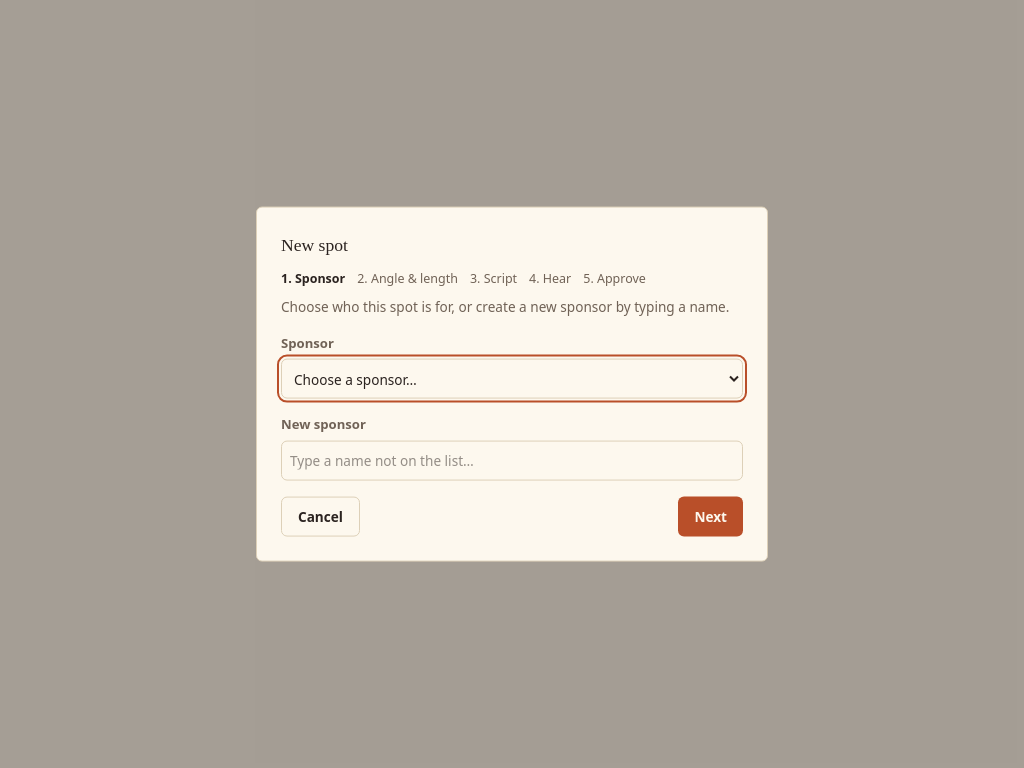
Test: Feature: New spot is a five-step wizard › Scenario: the Sponsor step refuses to advance with nothing chosen › clears the refusal once a sponsor is chosen and the wizard moves on
Click the button "Next" at (711, 516), box [678, 496, 743, 536]
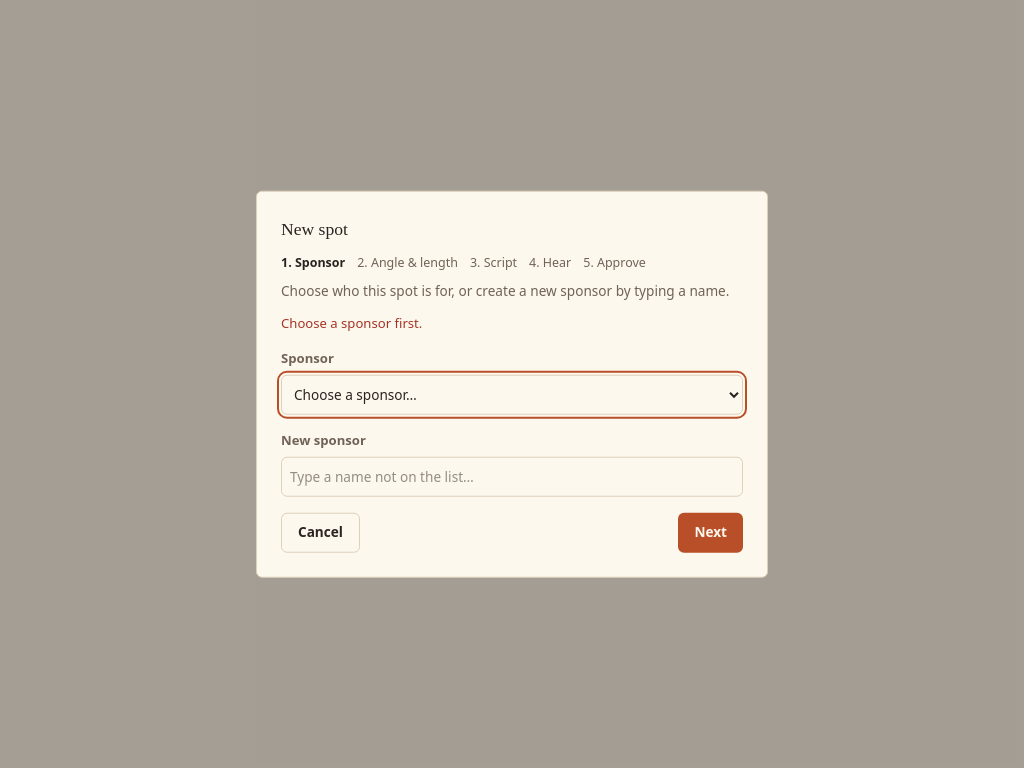
Result: the message reads "Choose a sponsor first." at [281, 313, 422, 331]
Select "Acme" in the dropdown labelled "Sponsor" at (512, 395), box [281, 375, 743, 415]
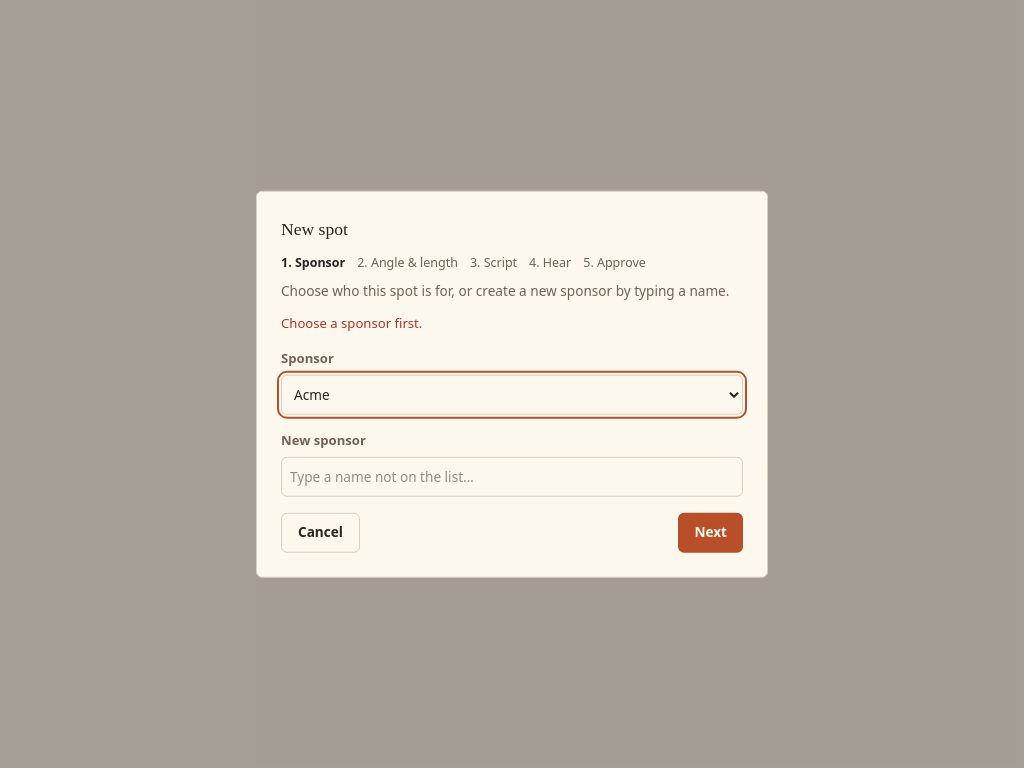
Click the button "Next" at (711, 532), box [678, 512, 743, 552]
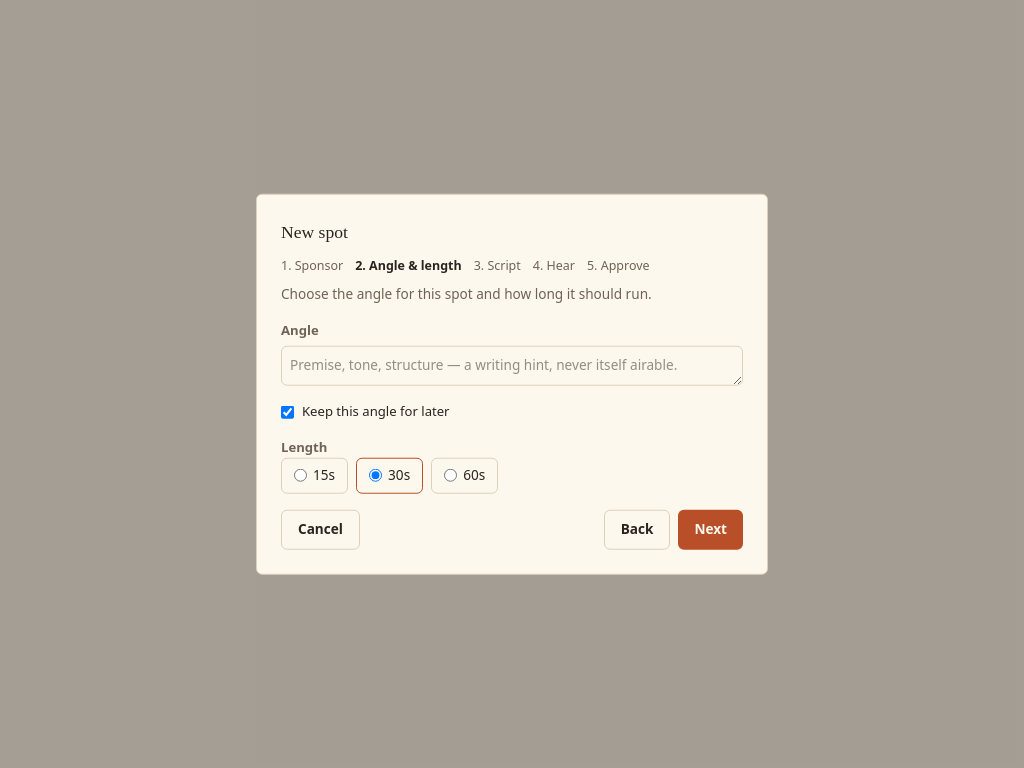
Result: the text "Choose the angle for this spot and how long it should run." is shown at [281, 284, 652, 303]
Result: the message "Choose a sponsor first." is gone
Result: the text "Choose a sponsor first." is gone
